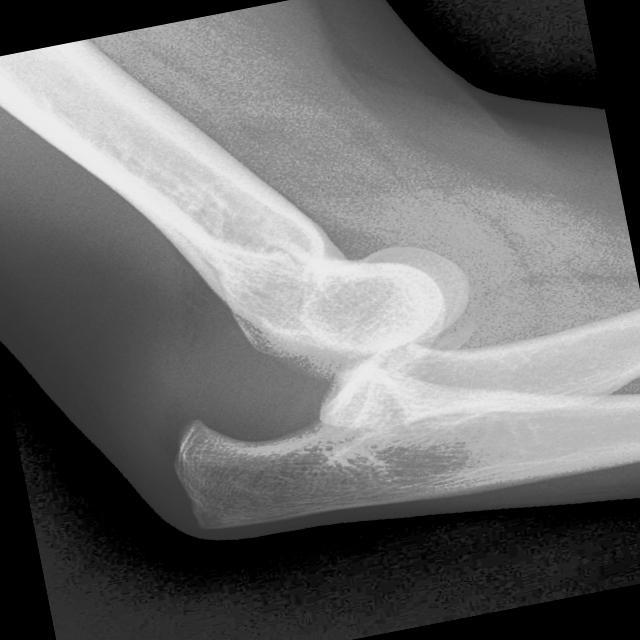Fracture Dislocation: (192, 340, 281, 510)
